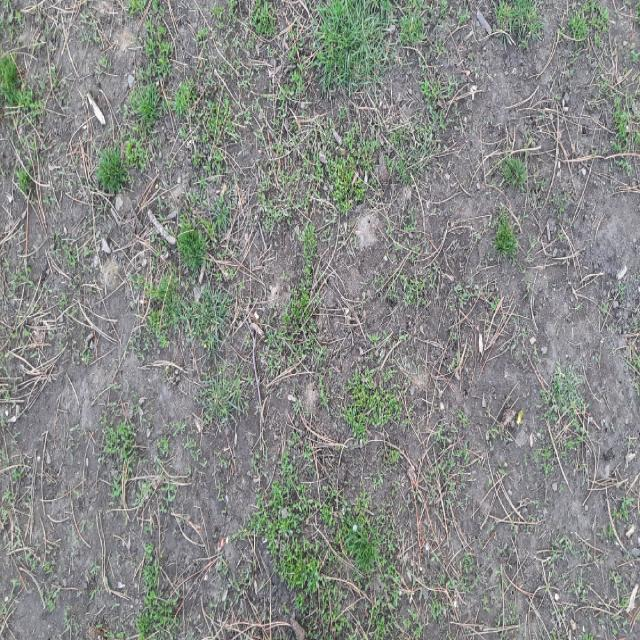grass: (79, 0, 404, 639), (96, 20, 173, 193), (147, 273, 182, 346), (495, 0, 543, 47), (0, 608, 70, 635), (104, 422, 136, 459), (493, 207, 516, 256), (0, 55, 19, 103), (38, 585, 60, 610)
white-sand: (0, 0, 639, 639)
